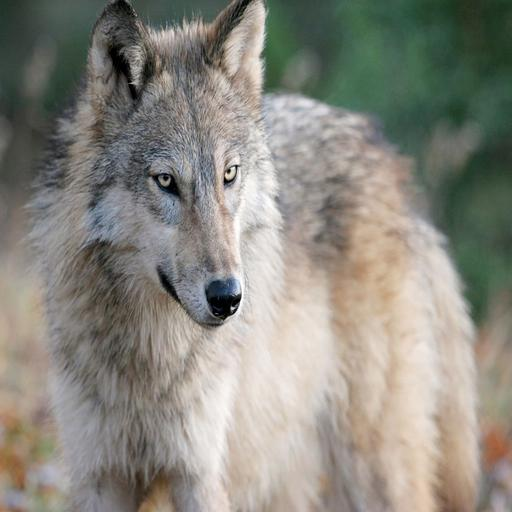Wolf: (17, 0, 493, 512)
